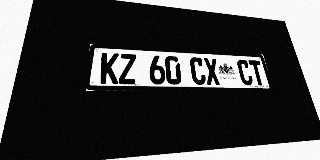0: (164, 56, 182, 85)
6: (149, 55, 166, 84)
C: (189, 57, 207, 85), (236, 59, 254, 85)
K: (100, 53, 119, 84)
T: (248, 60, 266, 85)
X: (203, 58, 221, 85)
Z: (119, 54, 136, 84)
